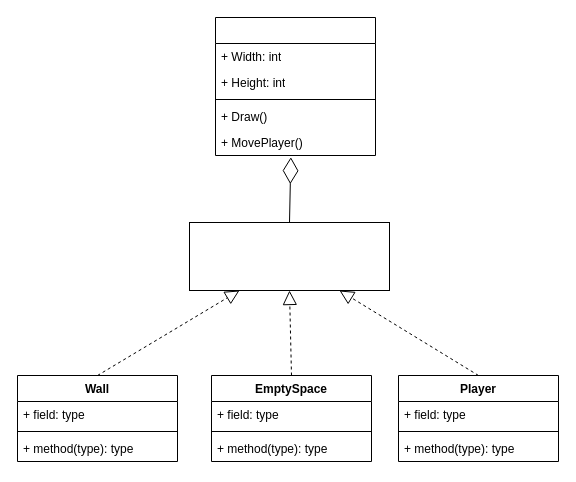
Image size: 576x482. Some labels were removed from this diagram. Here are the shapes that lost their labels. From the top down, the box of each, then its label:
(214, 16, 376, 156): Maze
(188, 222, 390, 290): «interface» IMazeObject
